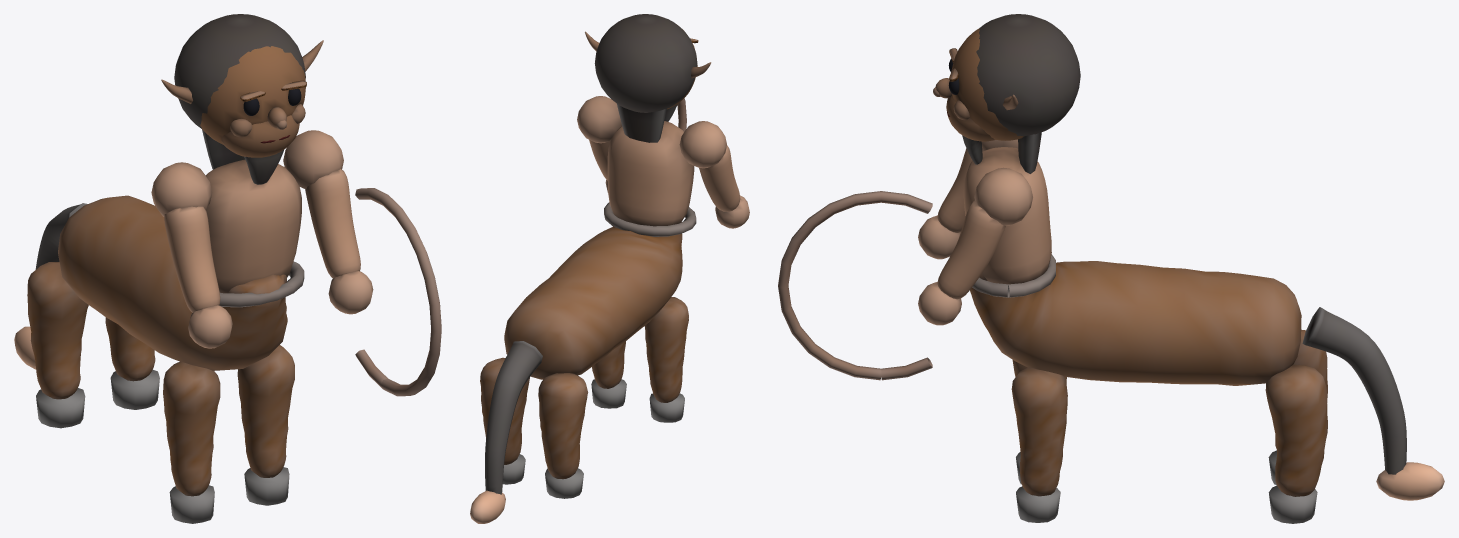
3 views of the same model, side by side, from view 1: azimuth 30°, elevation 25°; view 2: azimuth 150°, elevation 25°; view 3: azimuth 270°, elevation 25° (orthographic). The views are drawn at different scales.
Parts seen in each view (by area): view 1: torso, head, rider, legBR, legFR, legFL, armR, armL, bow, legBL, tail; view 2: torso, rider, head, legBR, tail, legFR, legBL, armR, legFL, armL; view 3: torso, head, rider, legBL, tail, legFL, bow, armL, armR, legBR.
Boxes of the visible parts, box(x1,y1,x2,y2) form: torso: box(58, 195, 287, 370); head: box(161, 14, 323, 184); rider: box(151, 130, 343, 307); legBR: box(27, 262, 88, 428); legFR: box(163, 361, 220, 523); legFL: box(237, 345, 294, 505); armR: box(164, 206, 232, 348); armL: box(305, 168, 373, 314); bow: box(355, 188, 441, 396); legBL: box(105, 317, 159, 409); tail: box(14, 203, 87, 369); torso: box(504, 226, 682, 379); rider: box(577, 96, 726, 236); head: box(585, 14, 711, 142); legBR: box(538, 373, 588, 498); tail: box(470, 341, 542, 523); legFR: box(644, 297, 688, 422); legBL: box(480, 357, 529, 484); armR: box(699, 145, 749, 228); legFL: box(591, 341, 626, 408); armL: box(589, 140, 610, 192); torso: box(970, 261, 1301, 385); head: box(933, 14, 1080, 173); rider: box(963, 139, 1055, 297); legBL: box(1265, 364, 1327, 523); tail: box(1302, 307, 1444, 500); legFL: box(1011, 367, 1067, 522); bow: box(778, 191, 932, 380); armL: box(918, 200, 1005, 325); armR: box(918, 148, 972, 259); legBR: box(1268, 329, 1327, 485).
Size of the model in its own units: 0.42 by 1.08 by 1.36.
